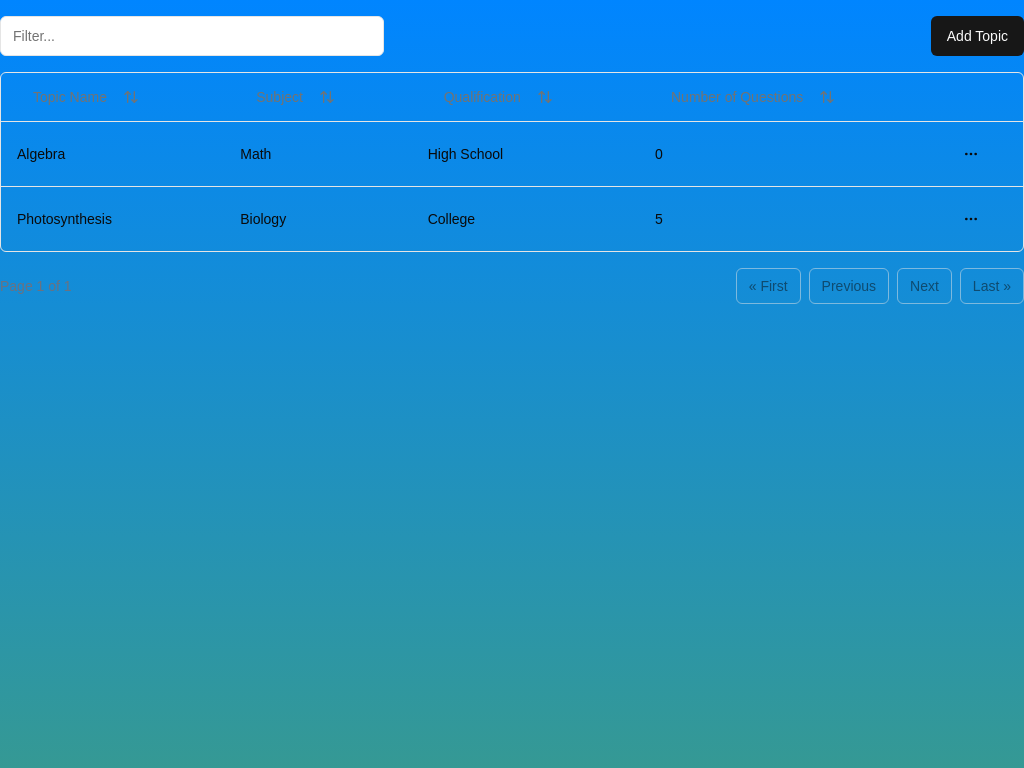
it: Topic Data Table › opens add topic dialog on button click
Click the button "Add Topic" at (977, 36), box [931, 16, 1023, 56]
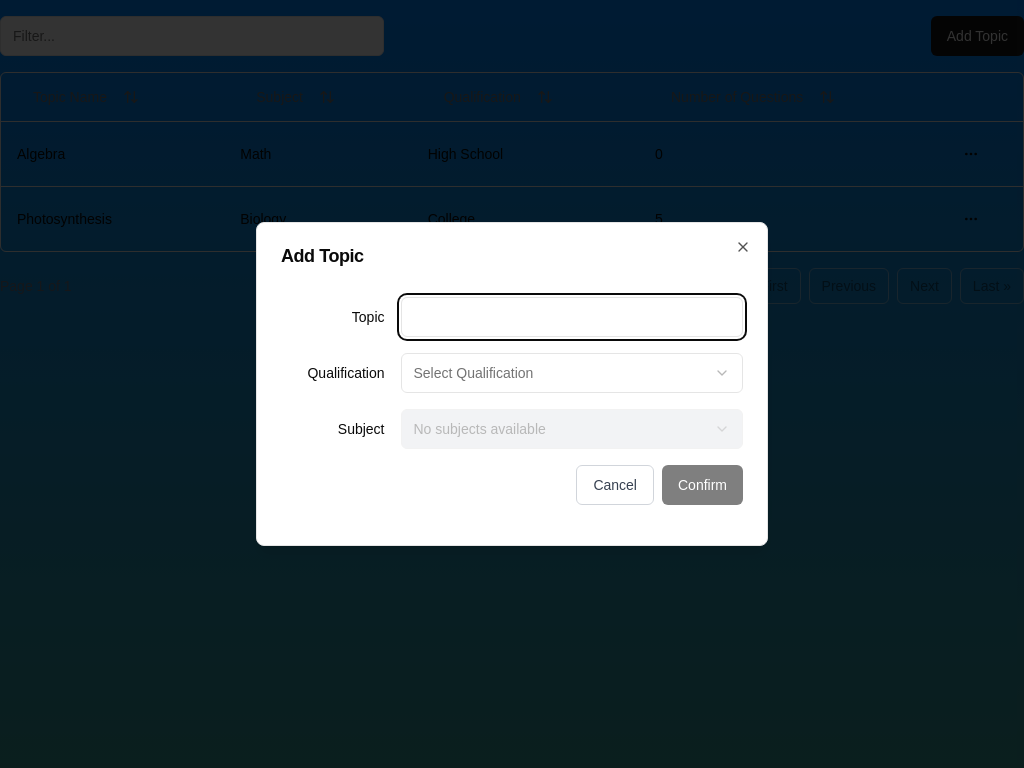
expect the heading "Add Topic" is shown: met, box [281, 246, 364, 266]
expect the field labelled "Topic" is shown: met, box [400, 297, 743, 337]
expect the dropdown labelled "subject" is shown: met, box [400, 409, 743, 449]
